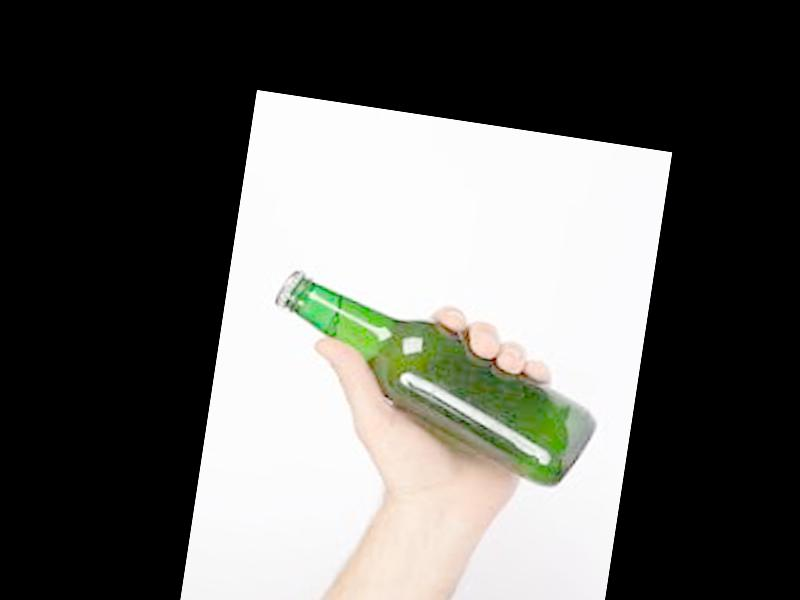Beer: (252, 268, 608, 492)
